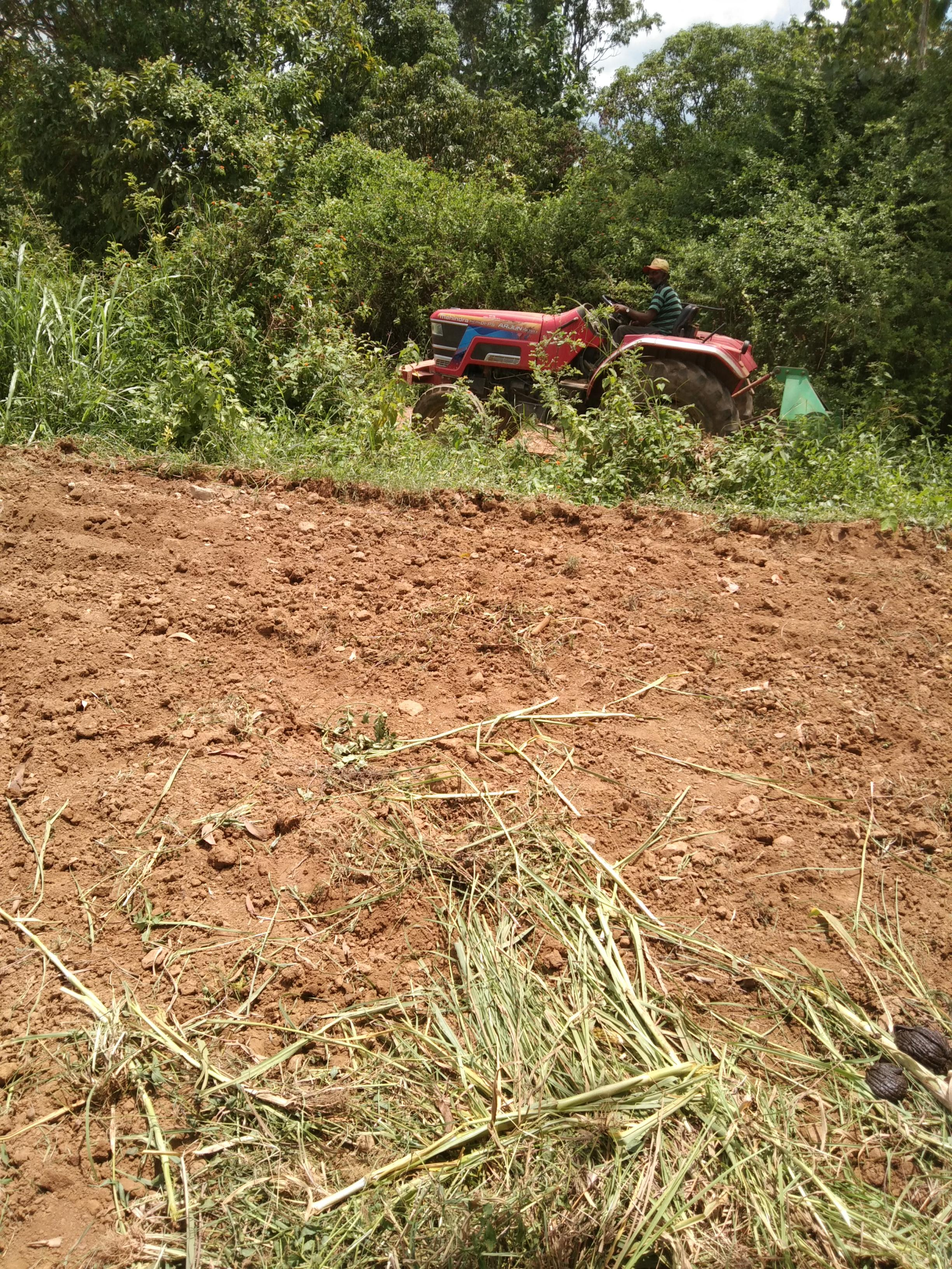non-ambulance: (332, 251, 874, 551)
